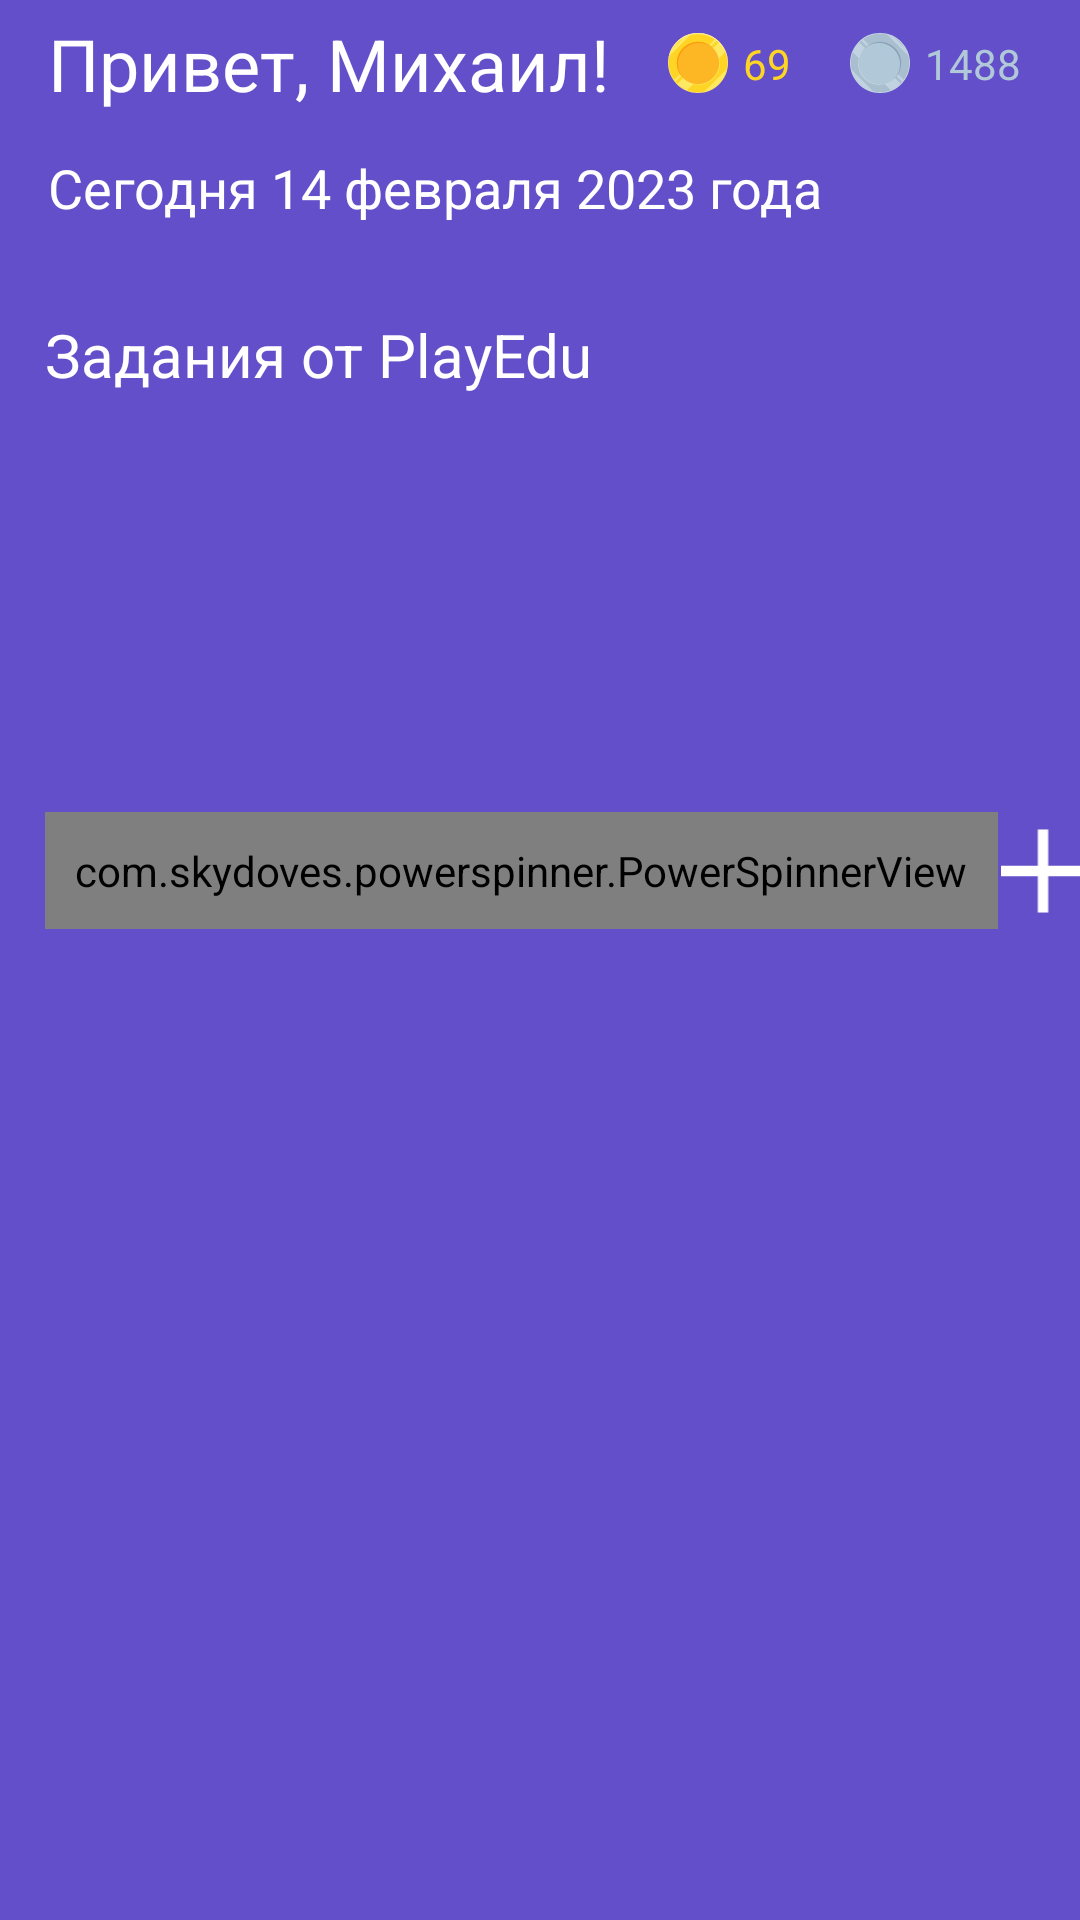

Icons on this 1080w x 1920h Android screen, each with the point to tap as (x=x, y=y):
add: (x=1040, y=871)
pic golden coin: (x=698, y=63)
pic silver coin: (x=880, y=63)
